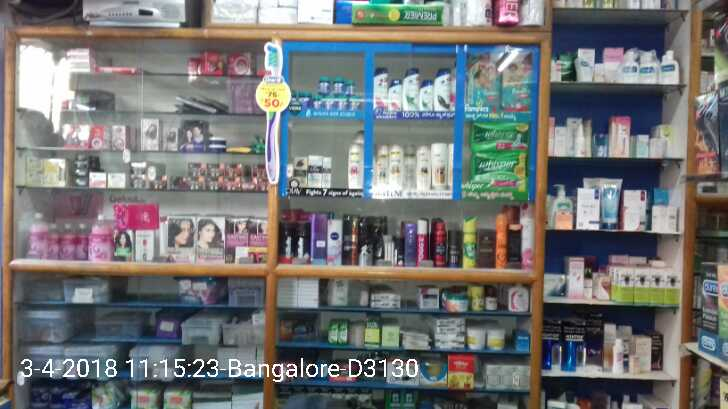vicks: (288, 76, 362, 108)
